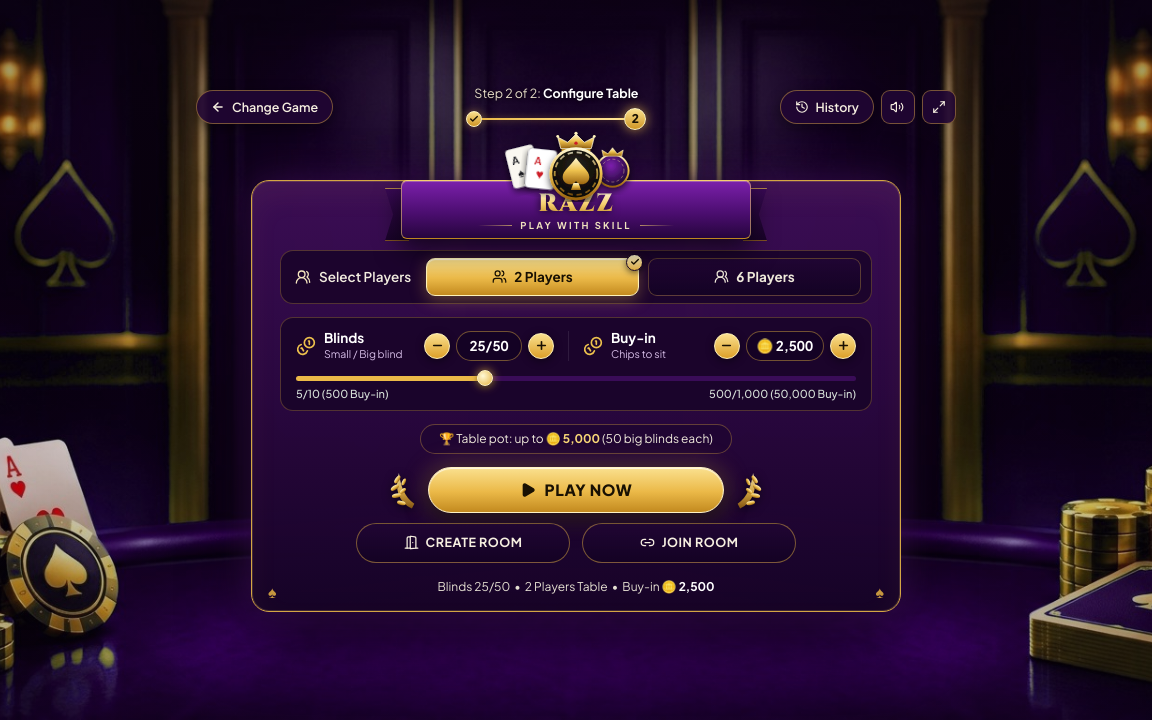
Test: stake setup and matchmaking › goes back from setup to the game picker
Click the button "Change Game". click: (265, 107)
box: [196,90,333,124]
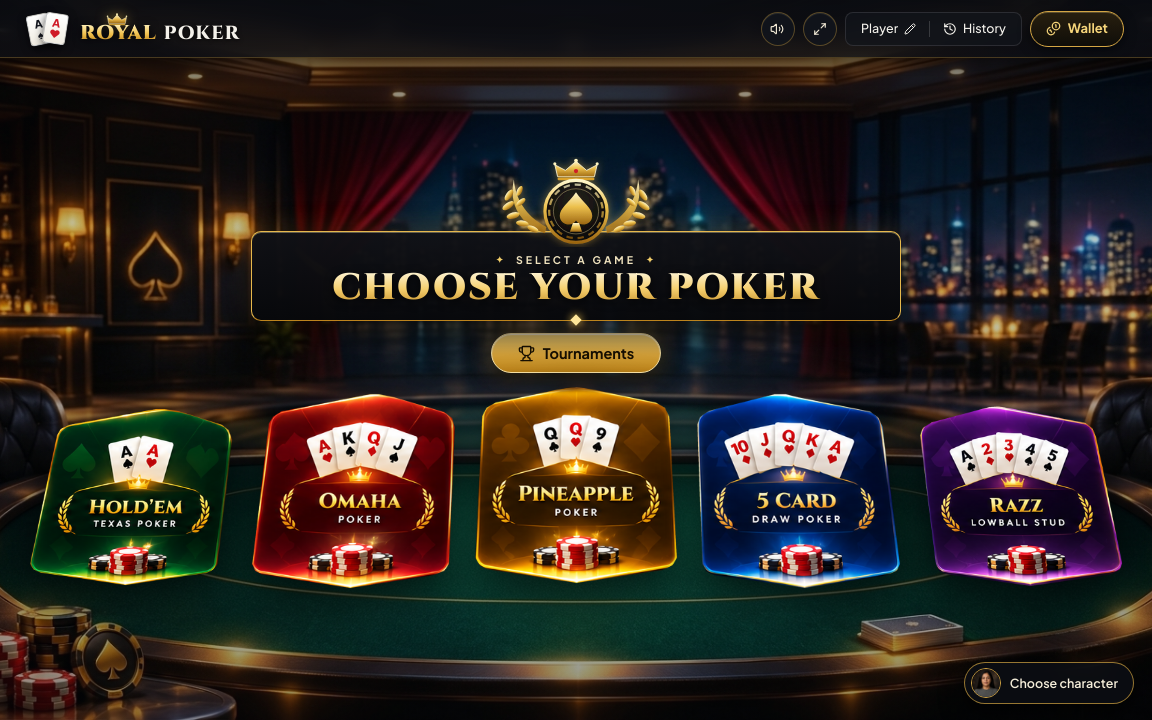
Now the heading "Choose Your Poker" is shown, box [280,269,872,309]
